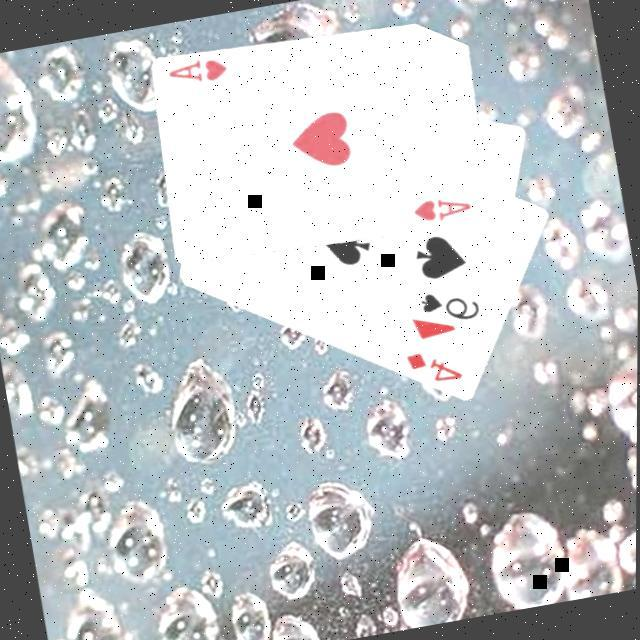4D: (402, 340, 468, 390)
6S: (416, 280, 485, 328)
AH: (164, 49, 232, 90), (409, 187, 476, 226)
